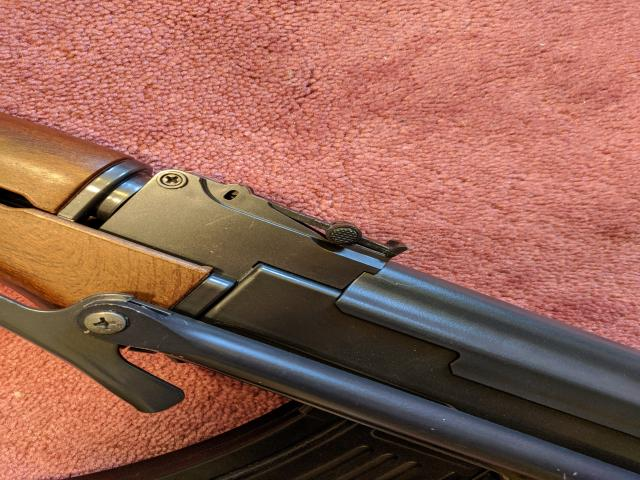CRS: (81, 311, 129, 334), (160, 173, 182, 186)
